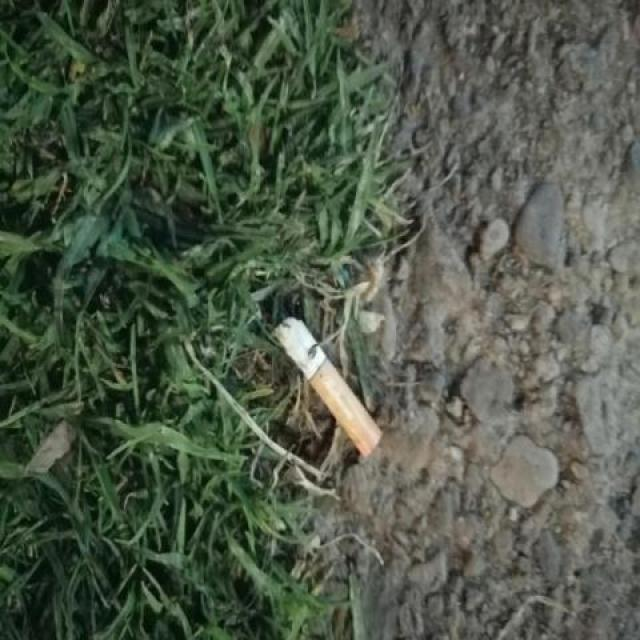non-organic waste: (266, 306, 386, 462)
